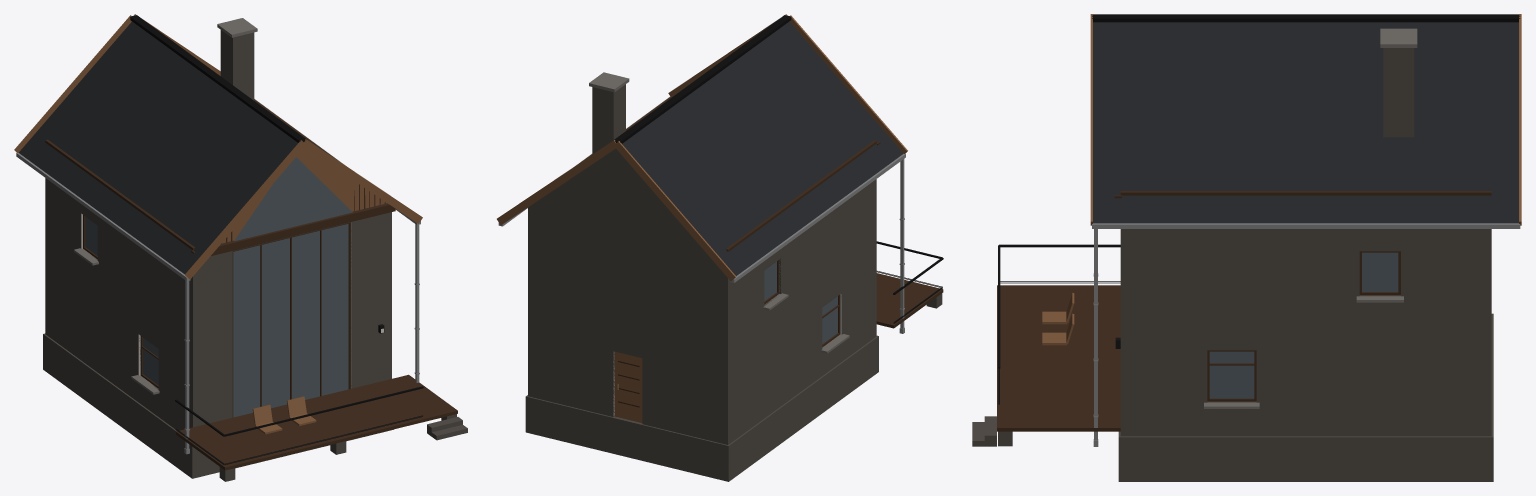
Rendered from hill_cottage_7x9_2_far.glb.
3 renders of one model, left to right at view 1: azimuth 30°, elevation 25°; view 2: azimuth 150°, elevation 25°; view 3: azimuth 270°, elevation 25°, orthographic. The views are drawn at different scales.
Parts seen in each view (by area): view 1: hill_cottage_7x9_2; view 2: hill_cottage_7x9_2; view 3: hill_cottage_7x9_2.
Boxes of the visible parts, <box> form: hill_cottage_7x9_2: <box>14,14,467,481</box>; hill_cottage_7x9_2: <box>497,14,943,481</box>; hill_cottage_7x9_2: <box>972,14,1521,481</box>.
Bounding box in the file's own units: 8.36 × 11.19 × 13.33.
